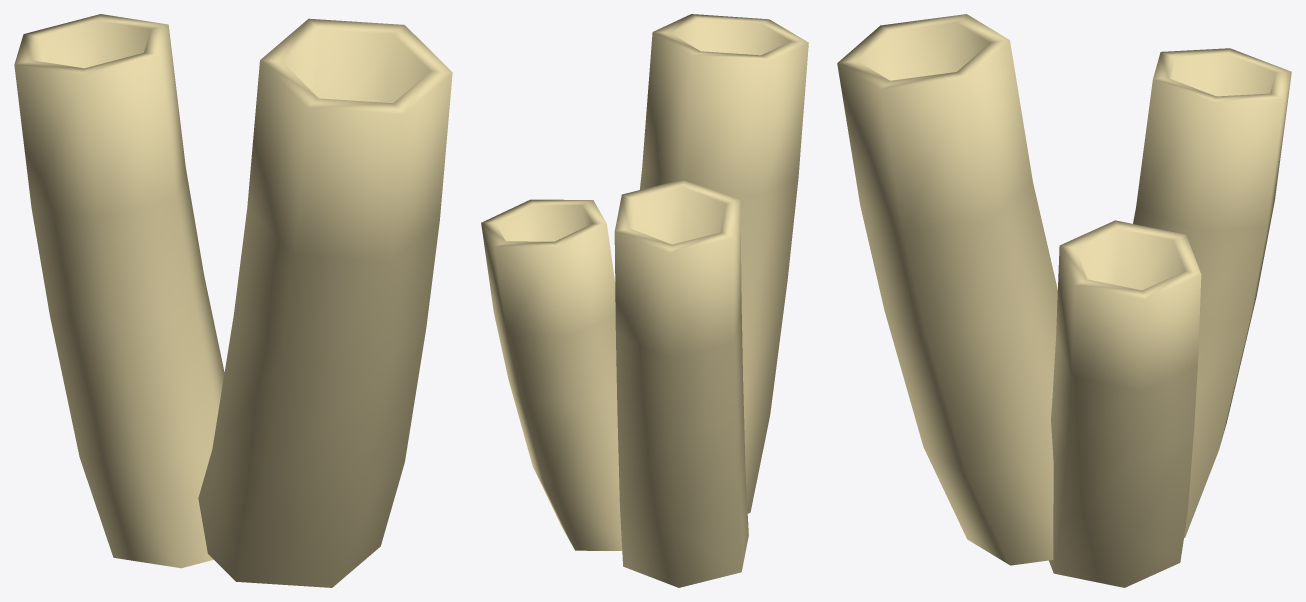
The model's file is Coral4_Bogdan.fbx.
The picture shows the model from 3 angles, left to right: view 1: azimuth 30°, elevation 25°; view 2: azimuth 150°, elevation 25°; view 3: azimuth 270°, elevation 25°; orthographic projection. The views are drawn at different scales.
Parts seen in each view (by area): view 1: Coral4; view 2: Coral4; view 3: Coral4.
Part boxes in pixels (x1=…): Coral4: x1=14, y1=14, x2=452, y2=587; Coral4: x1=481, y1=14, x2=808, y2=587; Coral4: x1=837, y1=14, x2=1291, y2=587.
Bounding box in the file's own units: 47.41 × 71.19 × 57.75.
